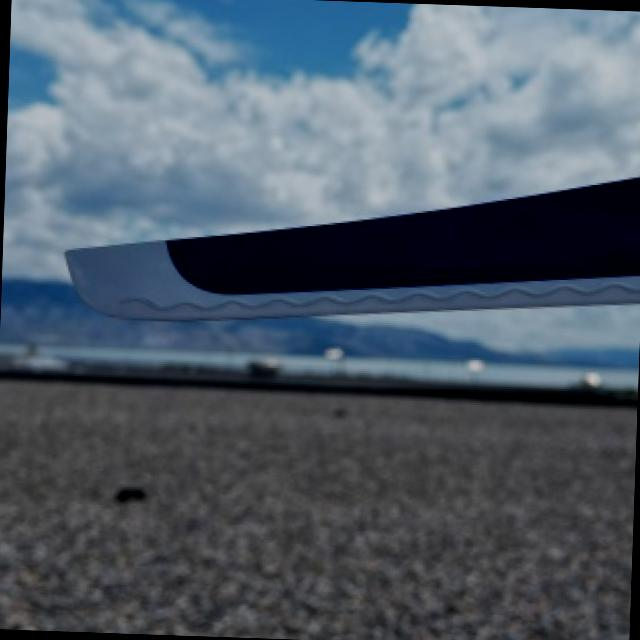healthy: (68, 175, 640, 317)
